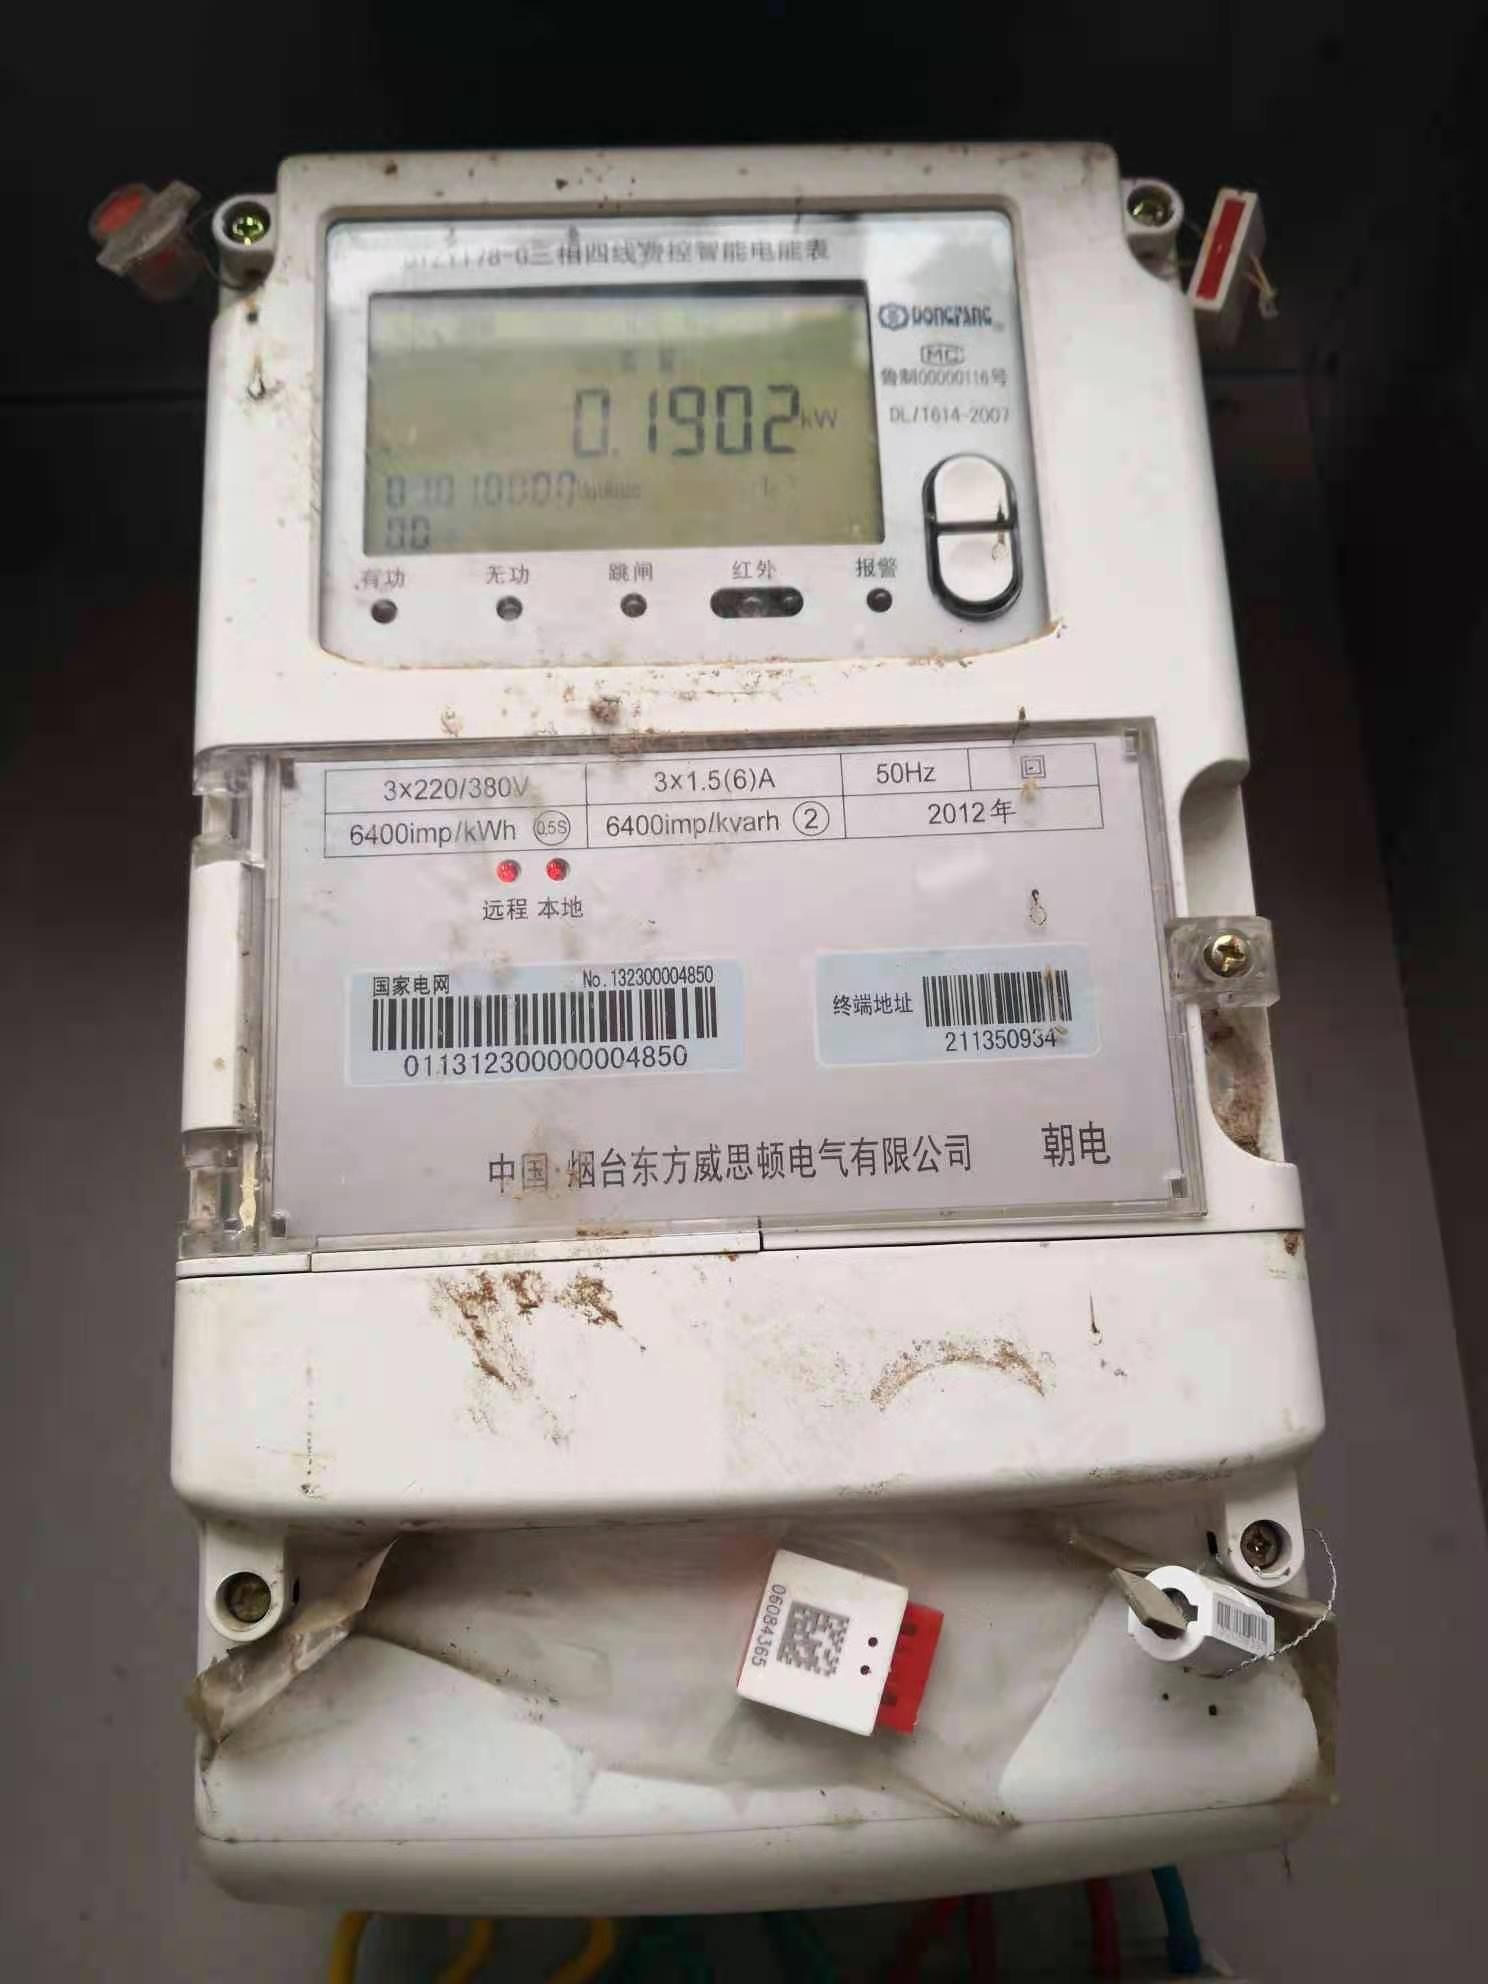digital: (173, 142, 1322, 1503)
